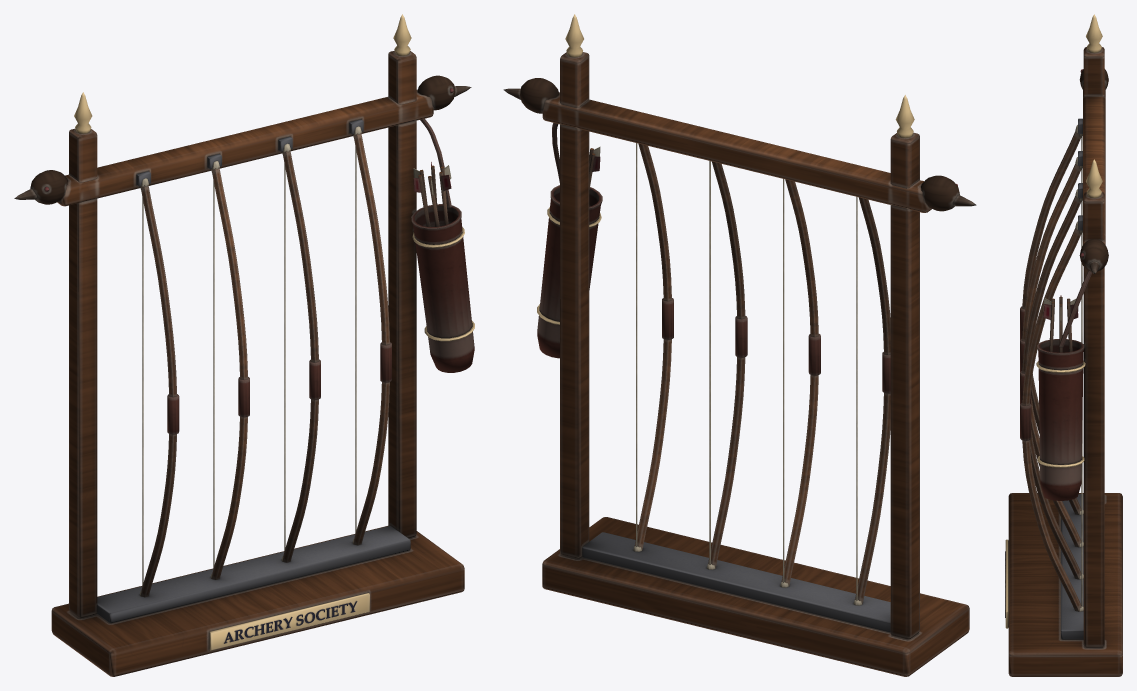
Rendered from BowRack.fbx.
3 views of the same model, side by side, from view 1: azimuth 30°, elevation 25°; view 2: azimuth 150°, elevation 25°; view 3: azimuth 270°, elevation 25° (orthographic). The views are drawn at different scales.
Parts seen in each view (by area): view 1: BowRack; view 2: BowRack; view 3: BowRack.
Part boxes in pixels (bbox=[...]): BowRack: bbox=[14, 14, 474, 676]; BowRack: bbox=[503, 14, 976, 676]; BowRack: bbox=[1005, 14, 1122, 676].
Bounding box in the file's own units: 516 × 592 × 124.
